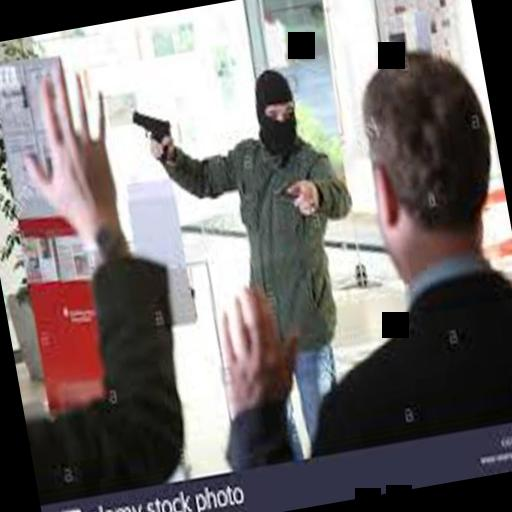Handgun: (128, 102, 178, 162)
